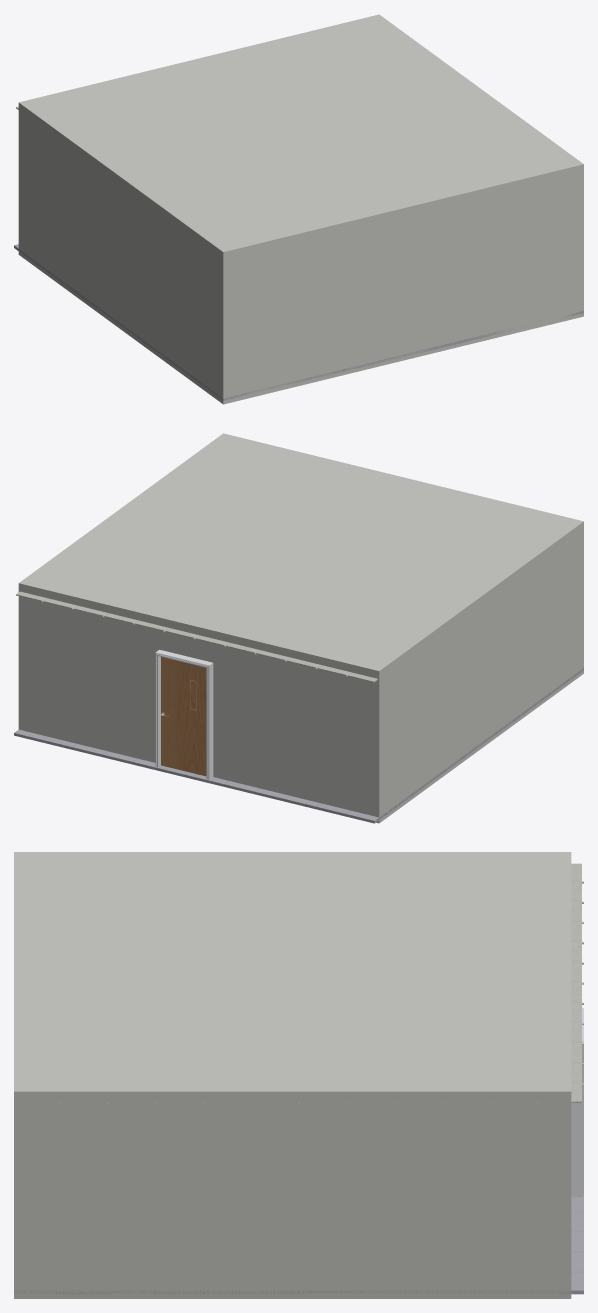
Rendered from infinigen-ed-stroke-bay-v1.chain.glb.
3 views of the same model, one above another, from view 1: azimuth 30°, elevation 25°; view 2: azimuth 150°, elevation 25°; view 3: azimuth 270°, elevation 25° (orthographic). The views are drawn at different scales.
Visible parts, largest first — view 1: bedroom_0/0.exterior, openclinxr_floor_field; view 2: bedroom_0/0.exterior, bedroom_0/0.door_leaf, openclinxr_floor_field, openclinxr_ceiling_tiles, bedroom_0/0.door_casing; view 3: bedroom_0/0.exterior, openclinxr_floor_field, openclinxr_ceiling_tiles, bedroom_0/0.door_casing.
Boxes of the visible parts, left/top/right/bottom form: bedroom_0/0.exterior: left=18, top=14, right=583, bottom=404; openclinxr_floor_field: left=14, top=244, right=583, bottom=400; bedroom_0/0.exterior: left=18, top=433, right=583, bottom=823; bedroom_0/0.door_leaf: left=161, top=657, right=206, bottom=776; openclinxr_floor_field: left=14, top=668, right=583, bottom=823; openclinxr_ceiling_tiles: left=16, top=591, right=377, bottom=682; bedroom_0/0.door_casing: left=155, top=649, right=213, bottom=779; bedroom_0/0.exterior: left=14, top=852, right=571, bottom=1298; openclinxr_floor_field: left=14, top=1195, right=583, bottom=1294; openclinxr_ceiling_tiles: left=571, top=863, right=581, bottom=1102; bedroom_0/0.door_casing: left=571, top=1007, right=583, bottom=1197.
Bounding box in the file's own units: 7.11 × 2.87 × 7.15.
Materials: 17 (10 with a texture image).
